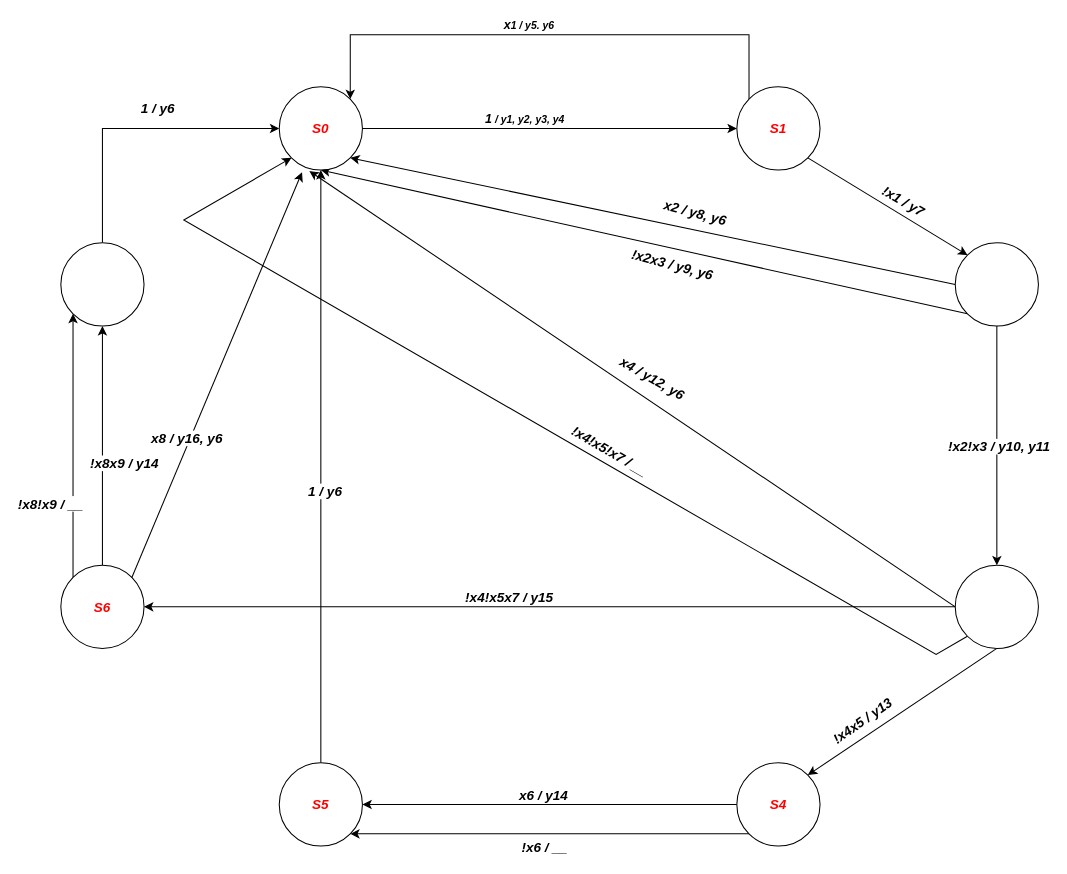
The diagram is 1067 pixels wide and 874 high, and some of its shapes have lost their labels. The shapes that lost their labels are listed below. From the top down, each one's box as (x1, y1, x2, y2) in pixels, then its label:
(60, 242, 144, 326): S7
(954, 242, 1038, 326): S2
(954, 564, 1038, 648): S3
